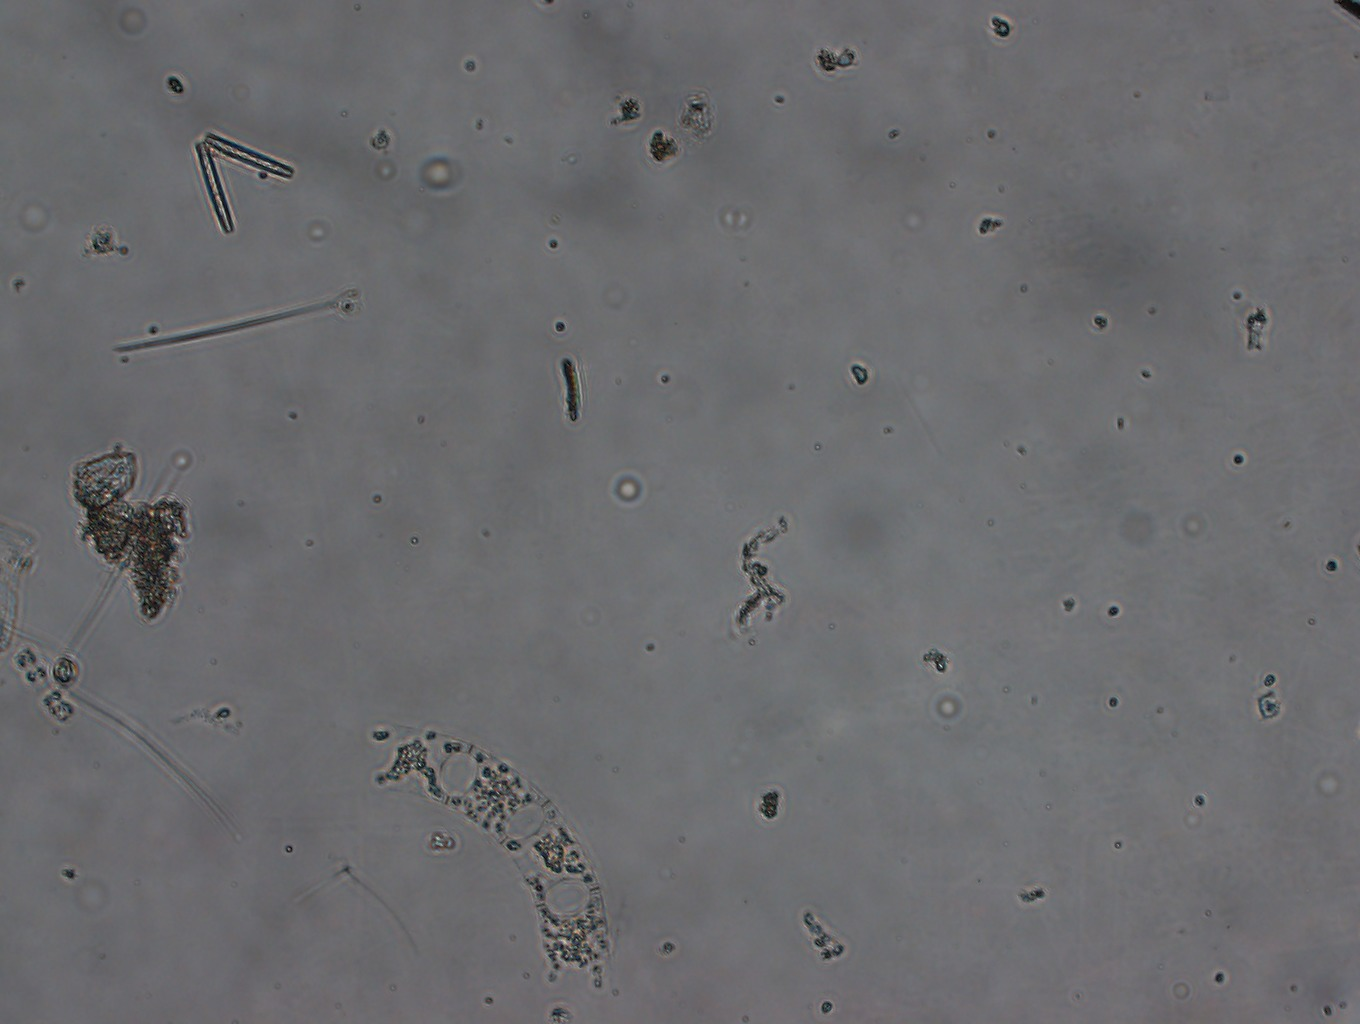eucampia: (362, 720, 633, 1005)
thalassionema frauenfeldii: (188, 125, 309, 240)
